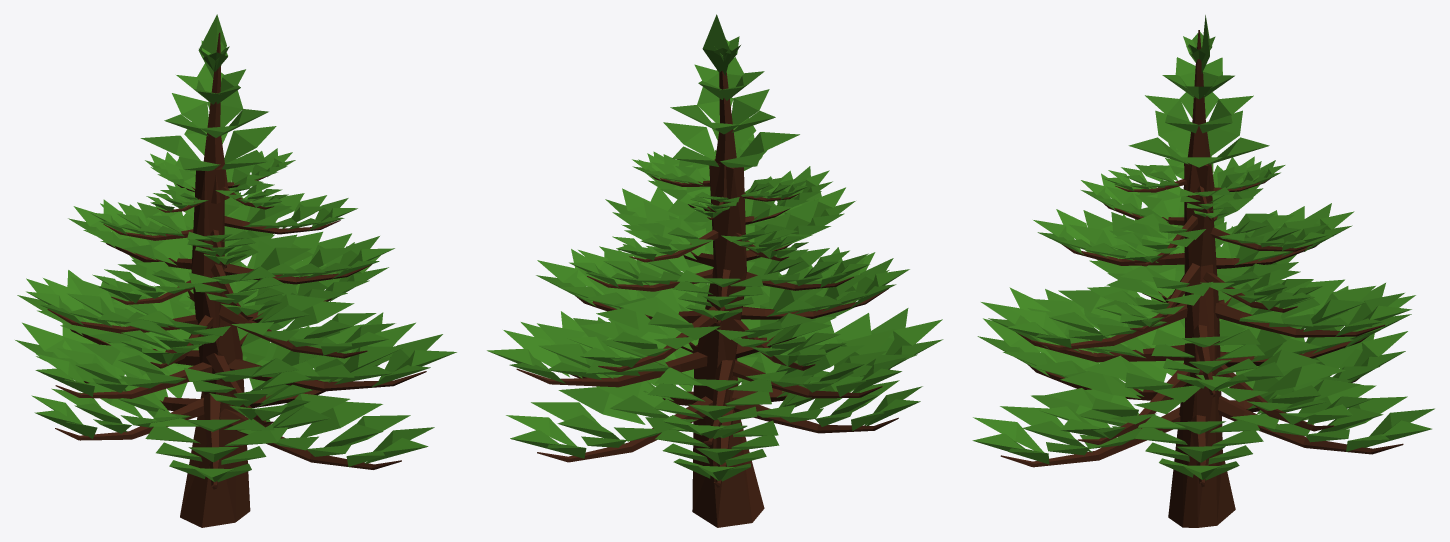
File: GR_Tree_Pine_LOD2.fbx
3 views of the same model, side by side, from view 1: azimuth 30°, elevation 25°; view 2: azimuth 150°, elevation 25°; view 3: azimuth 270°, elevation 25° (orthographic).
Visible parts, largest first — view 1: GR_Tree_Pine_LOD2; view 2: GR_Tree_Pine_LOD2; view 3: GR_Tree_Pine_LOD2.
Boxes of the visible parts, x1,y1,x2,y2 form: GR_Tree_Pine_LOD2: (15, 14, 456, 527); GR_Tree_Pine_LOD2: (487, 14, 943, 527); GR_Tree_Pine_LOD2: (972, 15, 1434, 527).
Size of the model in its own units: 2.5 by 3.04 by 2.54.
2 materials, 2 textured.
